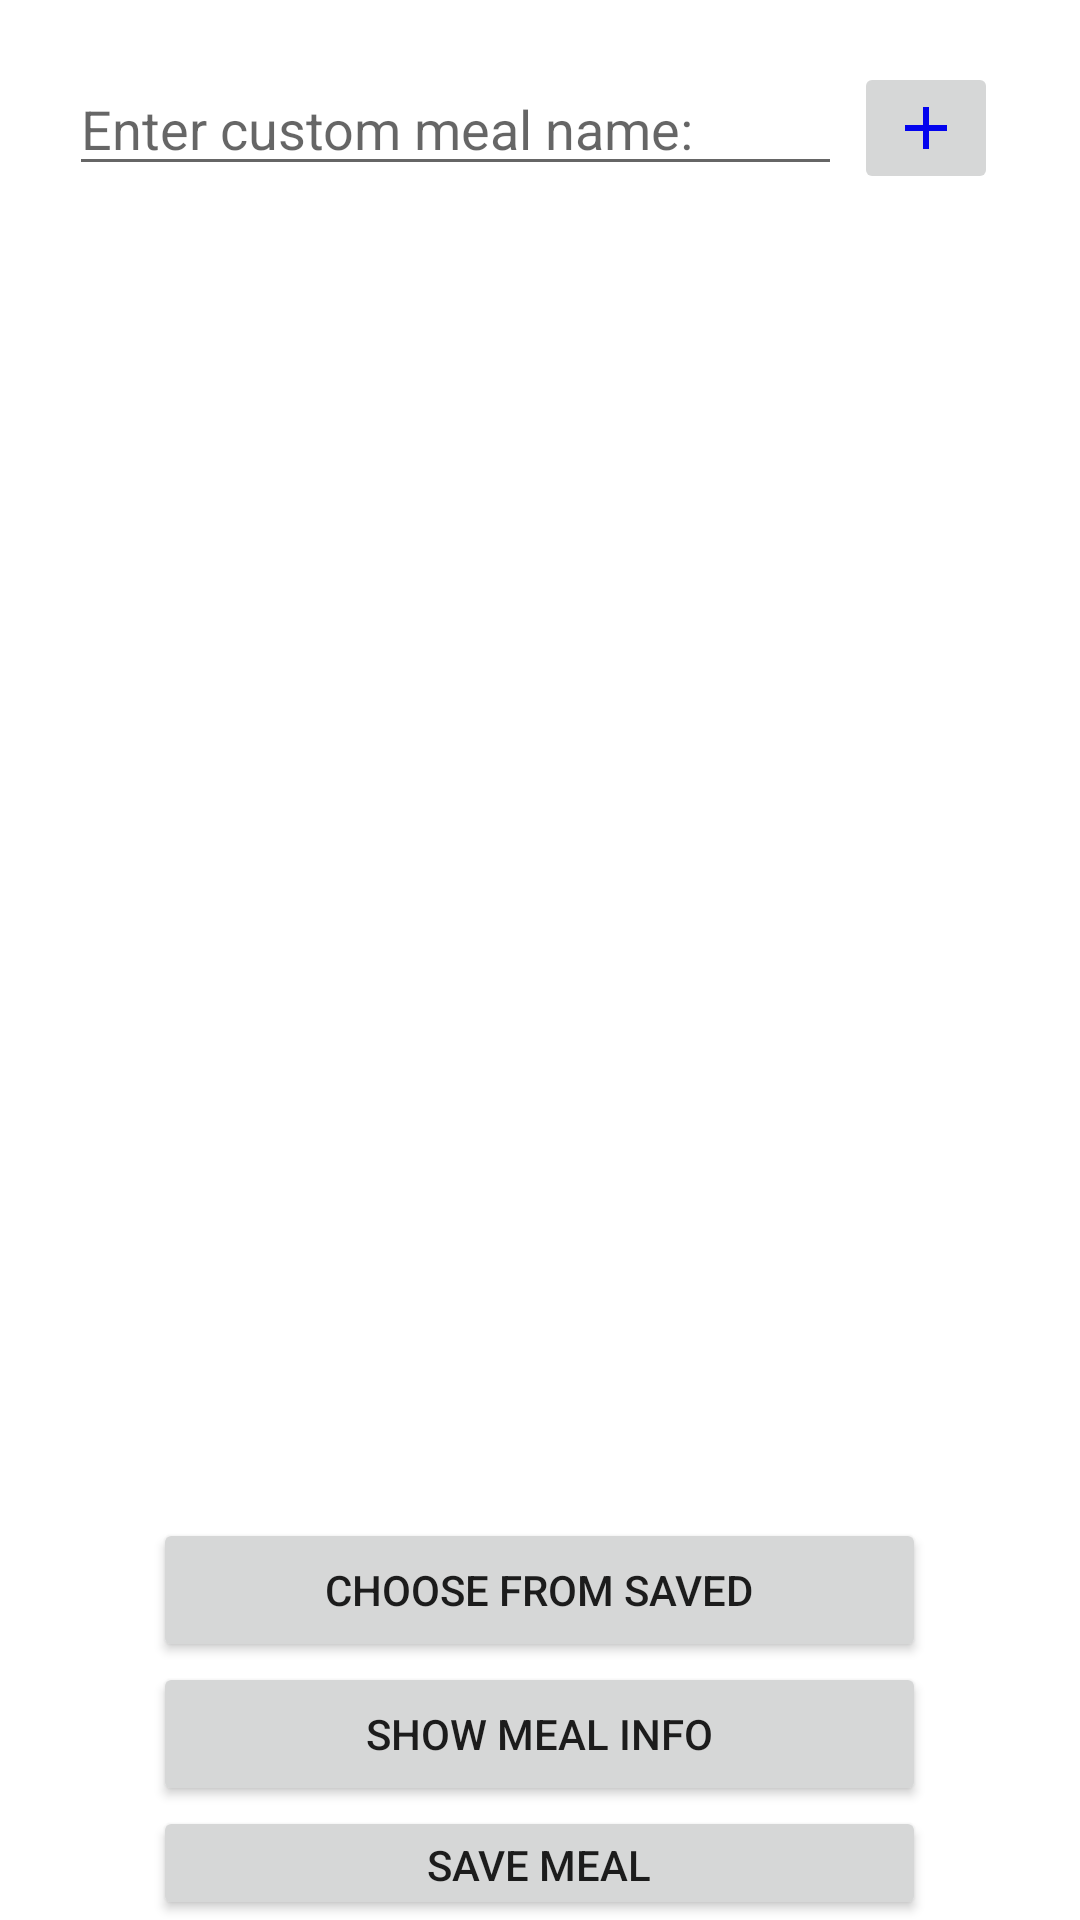

Locate icon controls on the screen. Image size 1080px×1920px, boxes as (x1, y1, x2, y2).
add: (866, 80, 986, 176)
